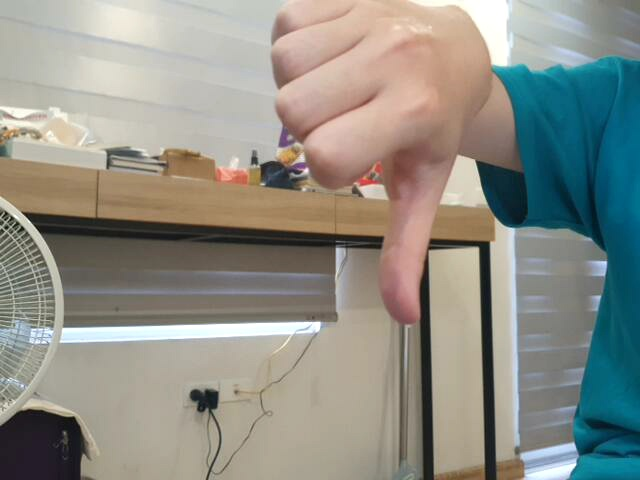ThumbsDown: (265, 1, 483, 329)
